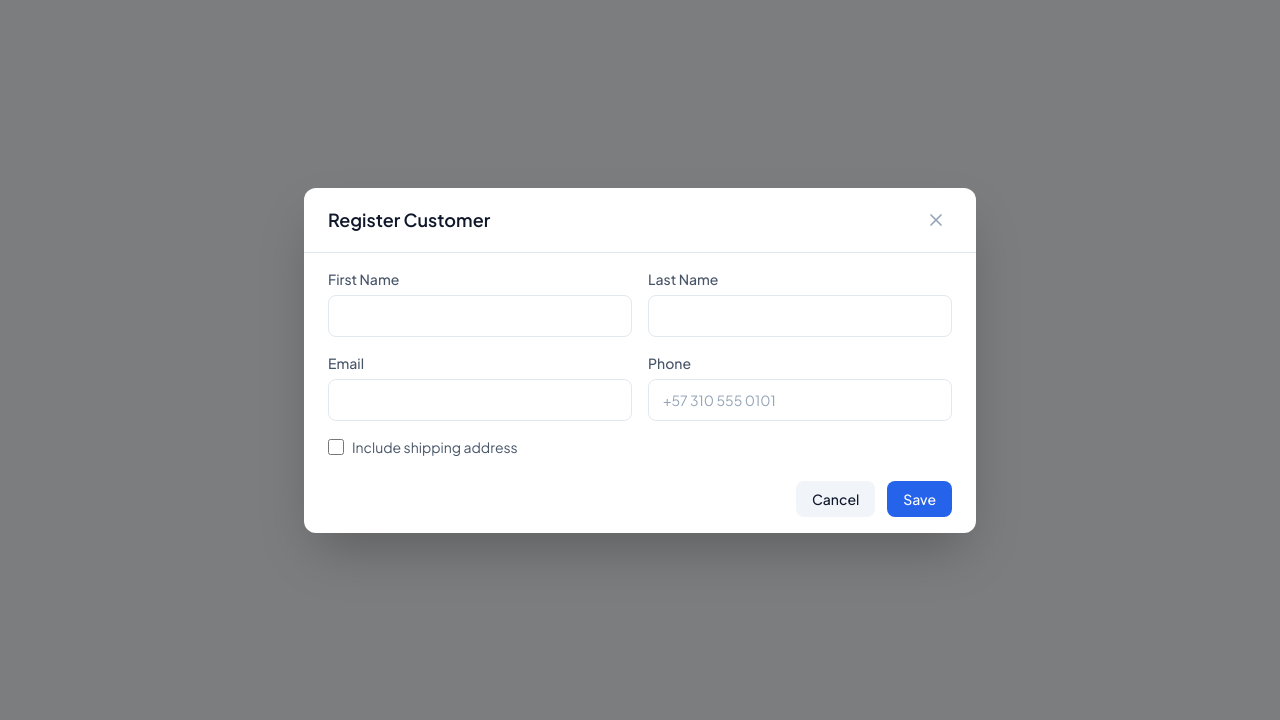
RegisterCustomerModal › shows address fields when the "Include shipping address" checkbox is checked
This screenshot has width=1280, height=720.
Click the checkbox.
click(336, 446)  # box [328, 438, 344, 454]
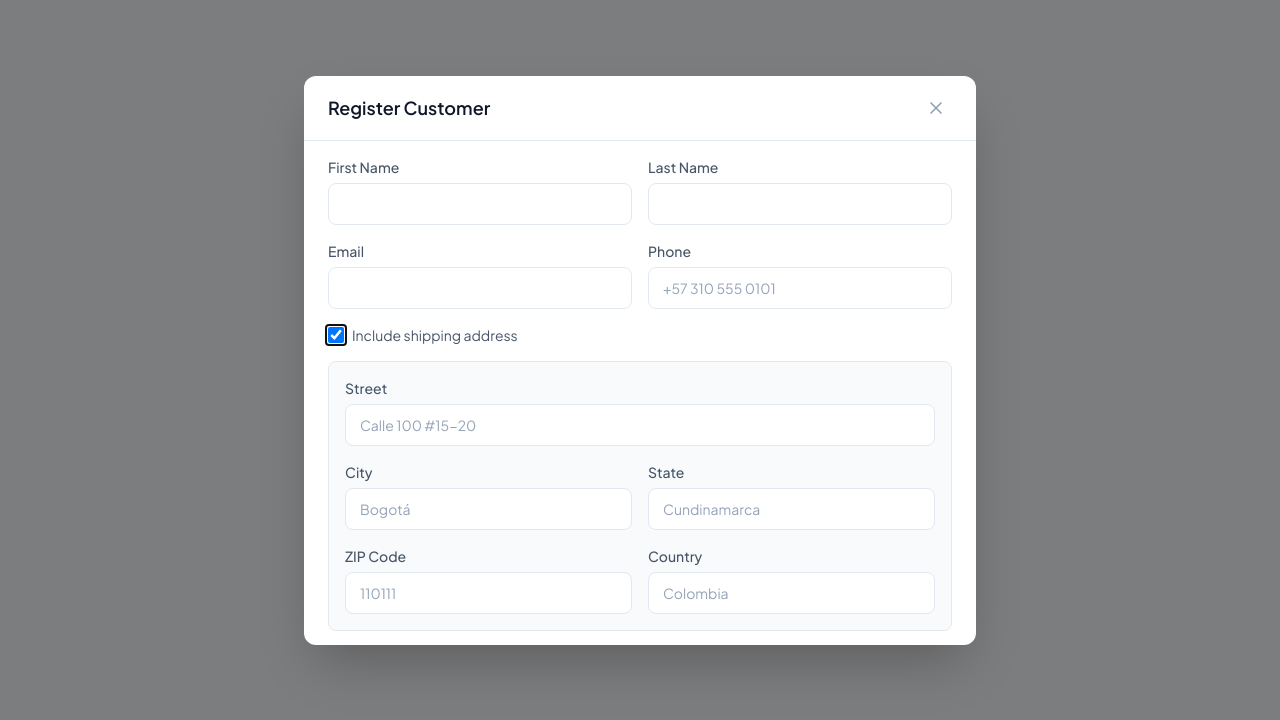
Expected: the field labelled "Street" is shown, [345, 404, 935, 446]
Expected: the field labelled "City" is shown, [345, 488, 632, 530]
Expected: the field labelled "Country" is shown, [648, 572, 935, 614]
